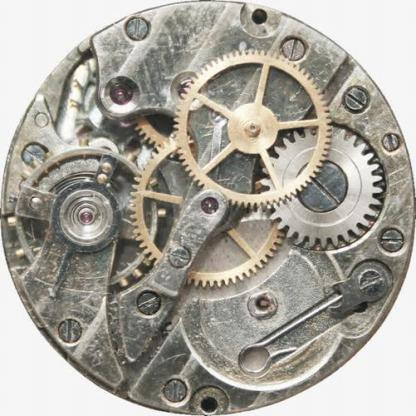FOD: (172, 46, 334, 209), (127, 134, 292, 292), (257, 123, 387, 249)
